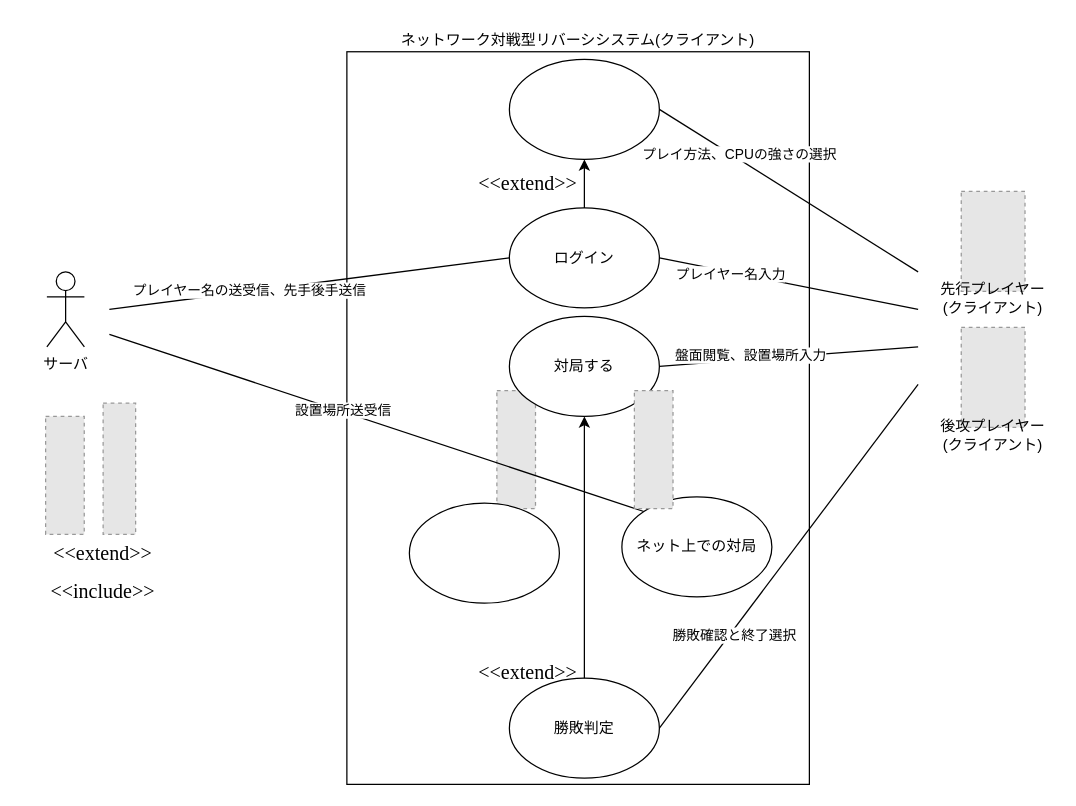
This 1076x806 diagram has some shape labels left out. Grey dashed boxes stand in for pictures. Here are the shapes that lost their labels. From the top down, the centre of each, then its label:
At point (583, 108): "プレイ方法の選択".
At point (483, 552): "CPUと対局".
